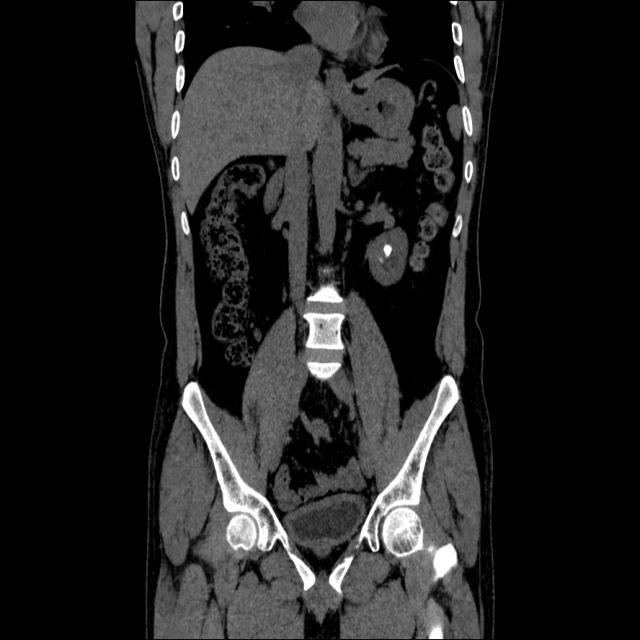kidneystone: (382, 244, 392, 258)
